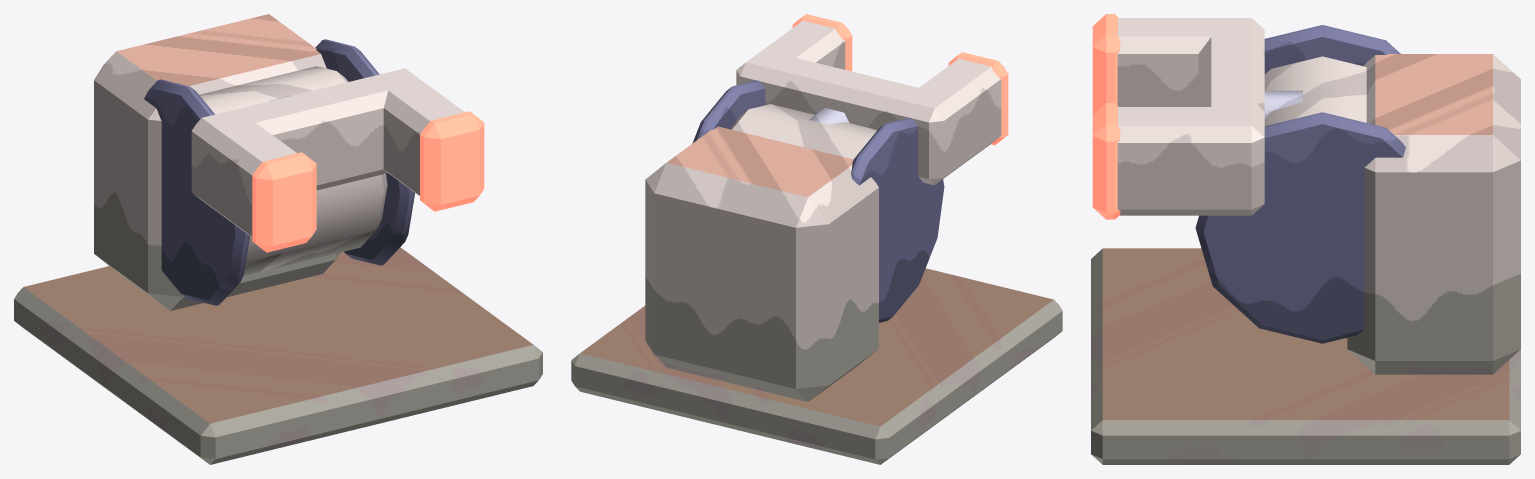
The model's file is R4X_MagneticGrapple_LOD1.glb.
3 renders of one model, left to right at view 1: azimuth 30°, elevation 25°; view 2: azimuth 150°, elevation 25°; view 3: azimuth 270°, elevation 25°, orthographic. The views are drawn at different scales.
Parts seen in each view (by area): view 1: R4X_MagneticGrapple_LOD1; view 2: R4X_MagneticGrapple_LOD1; view 3: R4X_MagneticGrapple_LOD1.
Part boxes in pixels (x1,y1,x2,y2): R4X_MagneticGrapple_LOD1: (14,14,542,464); R4X_MagneticGrapple_LOD1: (571,14,1062,464); R4X_MagneticGrapple_LOD1: (1091,14,1520,464).
Bounding box in the file's own units: 0.52 × 0.414 × 0.52.
Materials: 5 (4 with a texture image).
